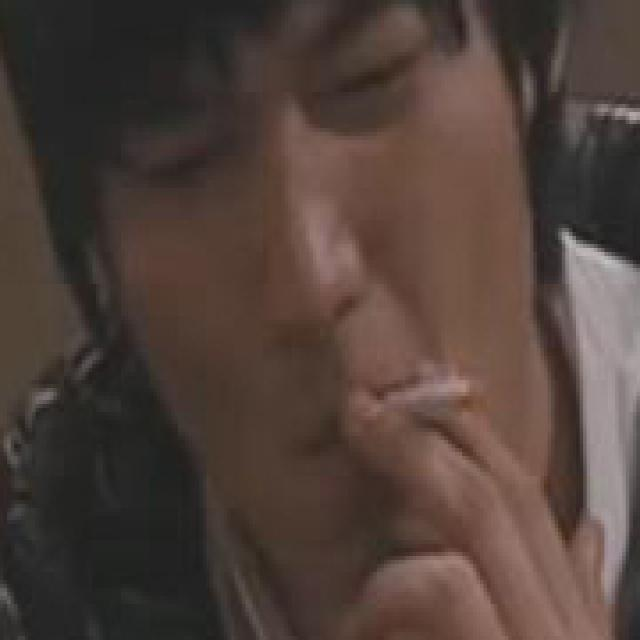smoking: (378, 378, 486, 417)
